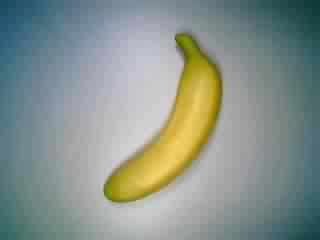banana: (99, 28, 230, 204)
